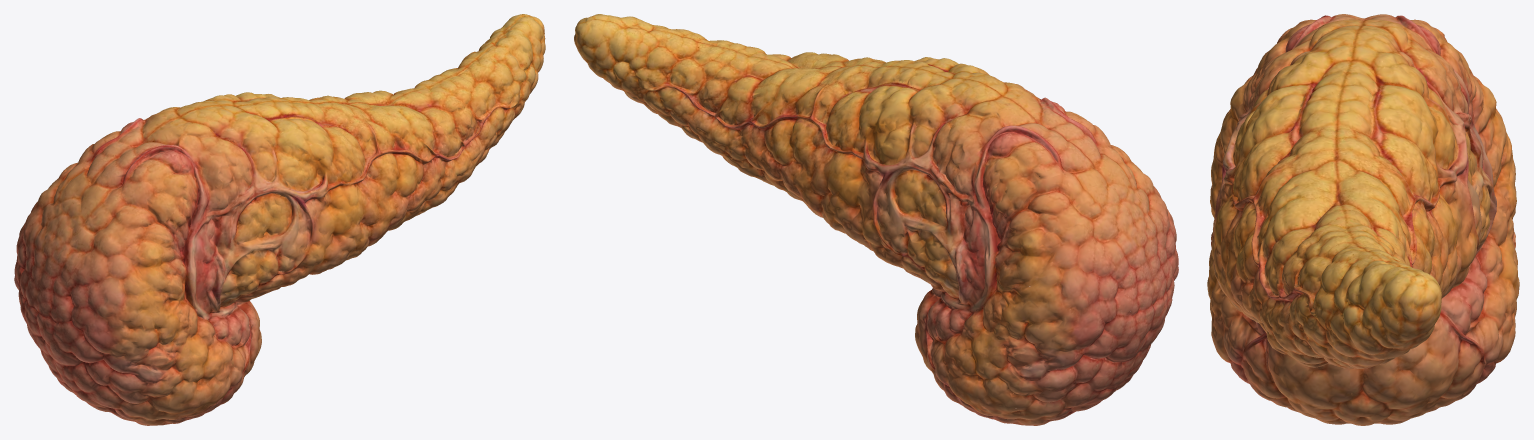
File: pancreas.glb
3 views of the same model, side by side, from view 1: azimuth 30°, elevation 25°; view 2: azimuth 150°, elevation 25°; view 3: azimuth 270°, elevation 25° (orthographic). The views are drawn at different scales.
Parts seen in each view (by area): view 1: tripo_node_28f9ac4d-a7ee-4a69-acaa-c6201ef7be03; view 2: tripo_node_28f9ac4d-a7ee-4a69-acaa-c6201ef7be03; view 3: tripo_node_28f9ac4d-a7ee-4a69-acaa-c6201ef7be03.
Part boxes in pixels (x1=…): tripo_node_28f9ac4d-a7ee-4a69-acaa-c6201ef7be03: x1=14, y1=14, x2=545, y2=425; tripo_node_28f9ac4d-a7ee-4a69-acaa-c6201ef7be03: x1=574, y1=14, x2=1178, y2=425; tripo_node_28f9ac4d-a7ee-4a69-acaa-c6201ef7be03: x1=1207, y1=14, x2=1519, y2=425.
Bounding box in the file's own units: 32123 × 17112 × 11844.
1 material, 1 textured.
